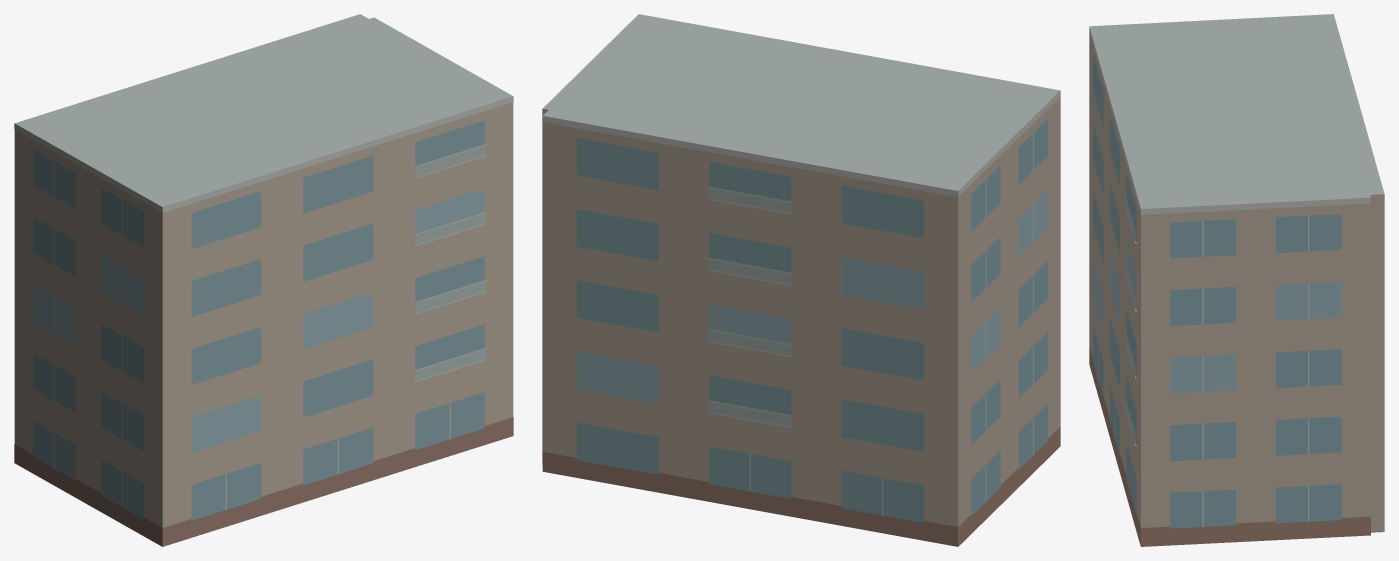
The model's file is survey-upis-32726799.glb.
The picture shows the model from 3 angles, left to right: view 1: azimuth 30°, elevation 25°; view 2: azimuth 150°, elevation 25°; view 3: azimuth 270°, elevation 25°; orthographic projection. The views are drawn at different scales.
Parts seen in each view (by area): view 1: survey-upis-32726799.tmp; view 2: survey-upis-32726799.tmp; view 3: survey-upis-32726799.tmp.
Boxes of the visible parts, left/top/right/bottom form: survey-upis-32726799.tmp: left=14, top=14, right=513, bottom=546; survey-upis-32726799.tmp: left=542, top=14, right=1060, bottom=546; survey-upis-32726799.tmp: left=1089, top=14, right=1384, bottom=546.
Size of the model in its own units: 17.3 by 13.96 by 11.07.
